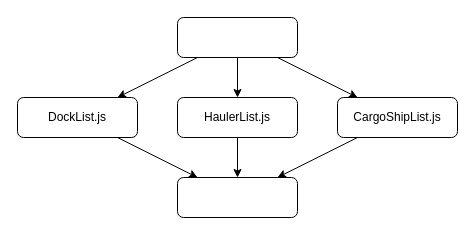
This 475x235 diagram has some shape labels left out. Here are the shapes that lost their labels. From the top down, the centre of each, then its label:
At pixel 237 37: "main.js".
At pixel 237 197: "database.js".
